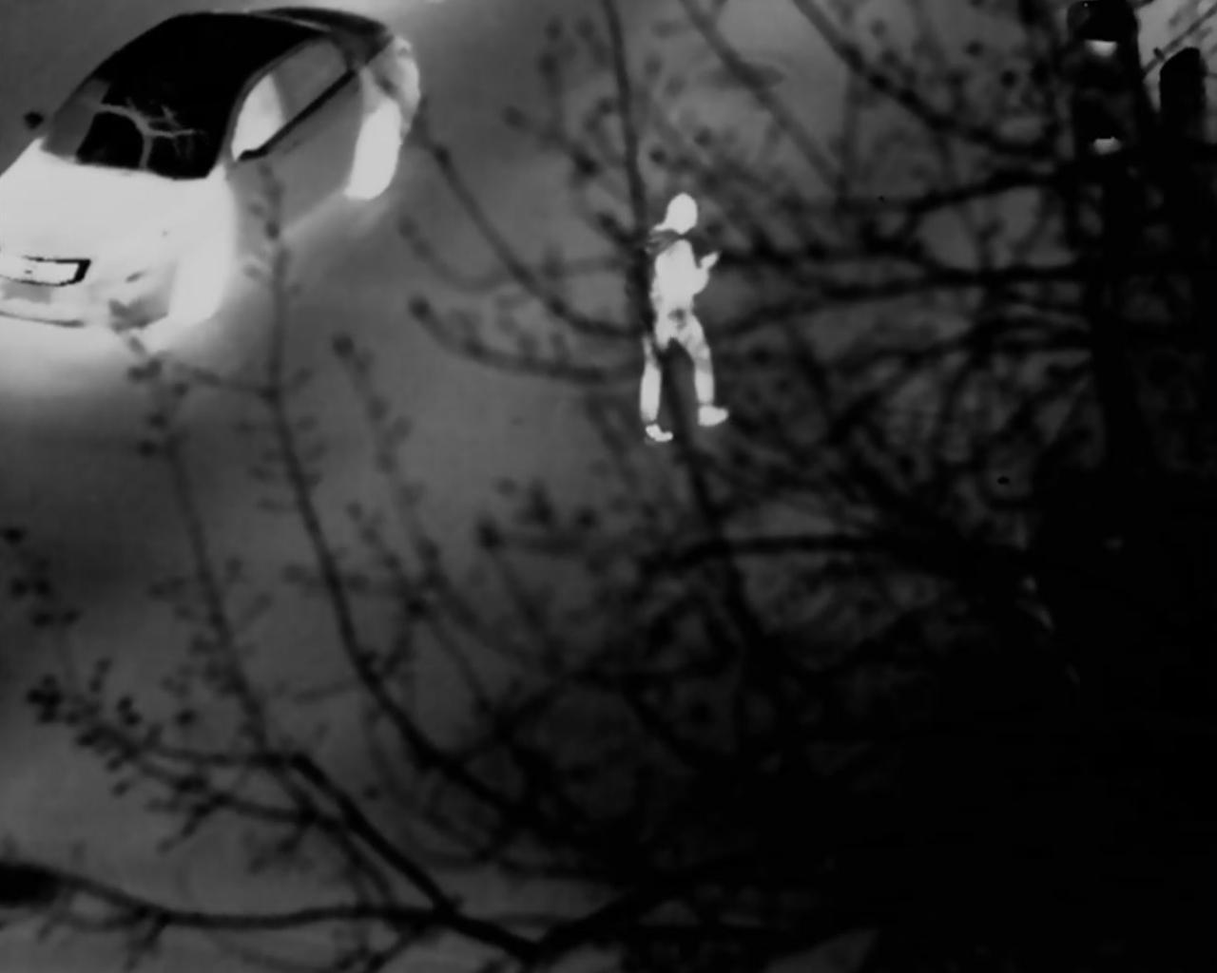person: (633, 193, 733, 440)
